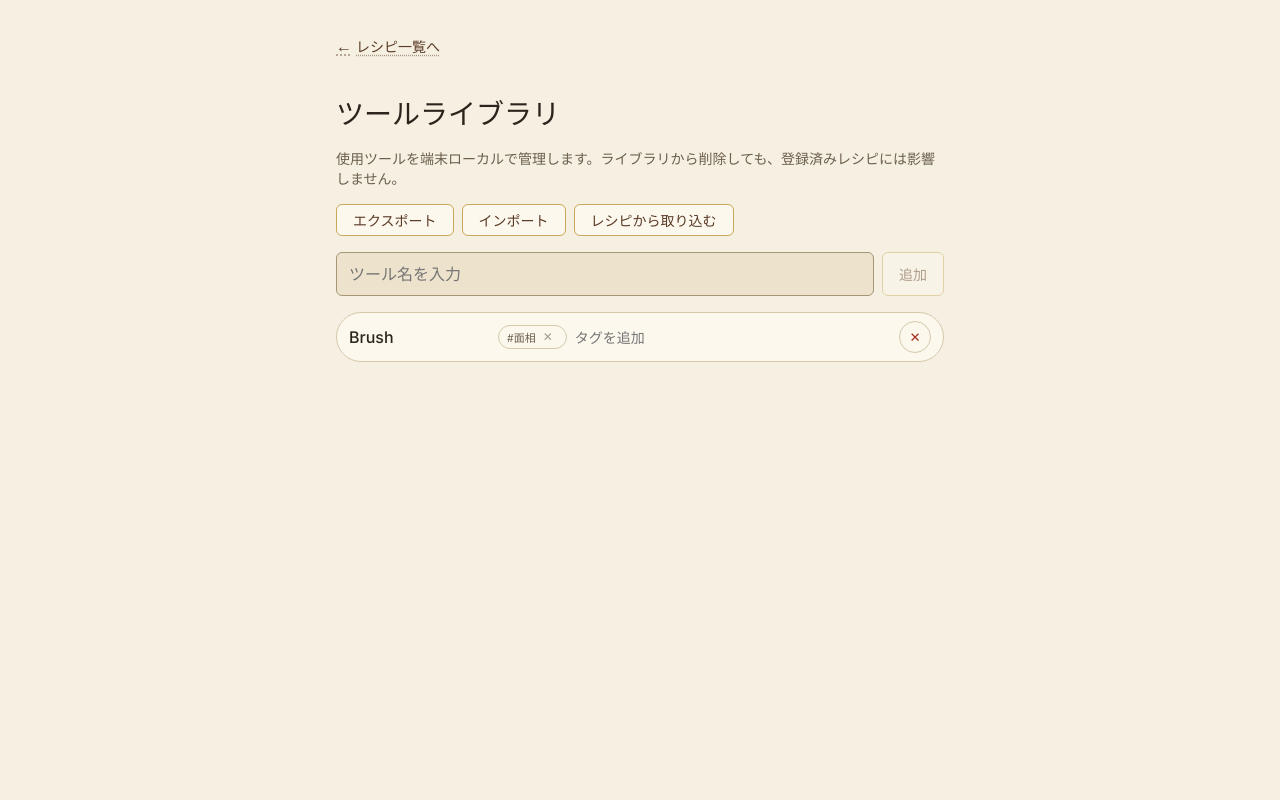
Test: ToolsPage › レシピから取り込む（T59・§2.8一括移行） › 既存ライブラリに同名（大小違い）＋タグ付きがある場合はタグを温存しnoteをnull時のみ補完してマージ扱いになる
This screenshot has width=1280, height=800.
Expected: the text "Brush" is shown, [349,327,394,347]
Click the button "レシピから取り込む" at {"x": 654, "y": 220}, box [574,204,734,236]
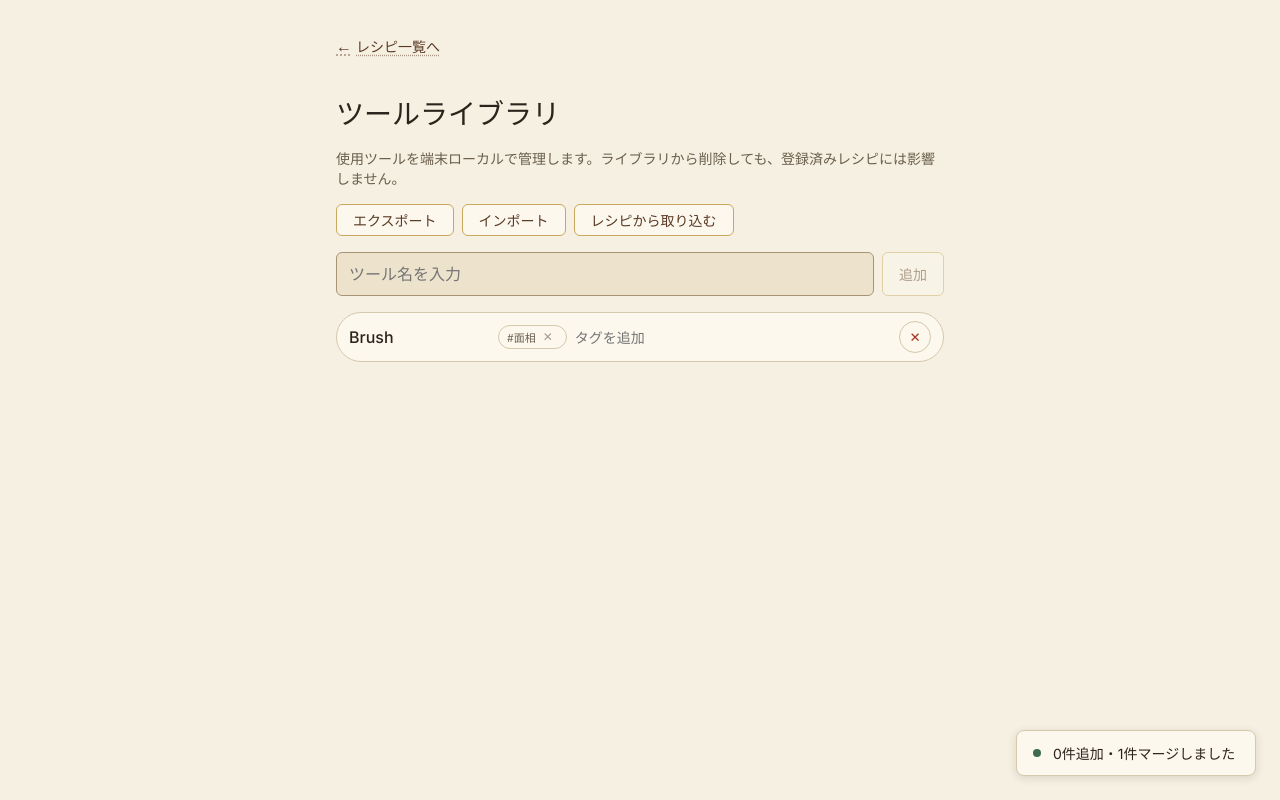
Result: the text "0件追加・1件マージしました" is shown at [1053,743,1239,763]
